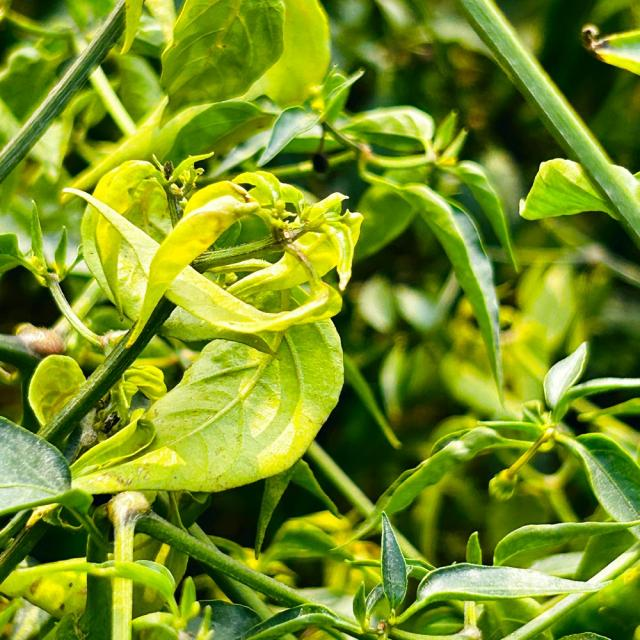Chilli_Leaf_Curl: (1, 1, 638, 638), (23, 156, 363, 499), (343, 340, 639, 551), (64, 163, 364, 352), (67, 314, 346, 496), (459, 0, 638, 246), (354, 165, 506, 405), (517, 156, 620, 224)
